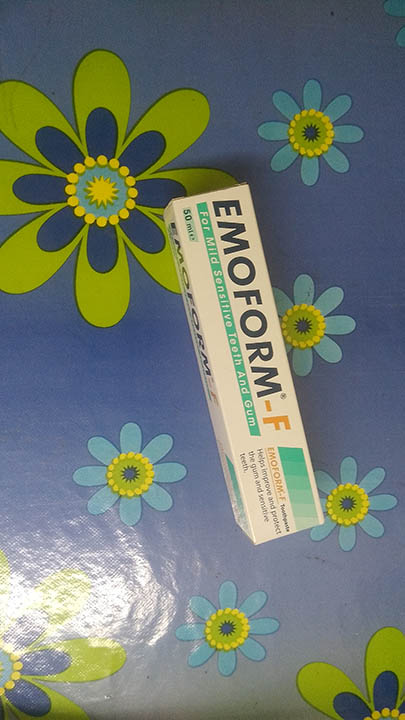Toothpaste-F 1.5$: (165, 184, 326, 543)
